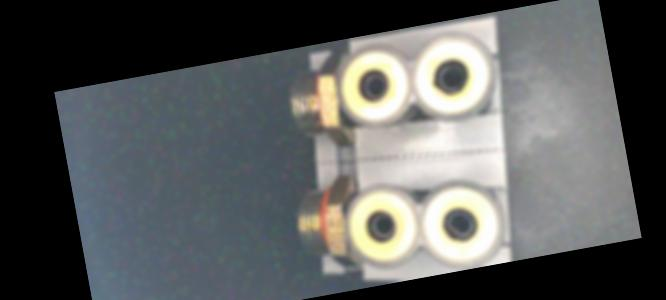off-centered: (440, 205, 479, 242), (434, 59, 472, 95)
